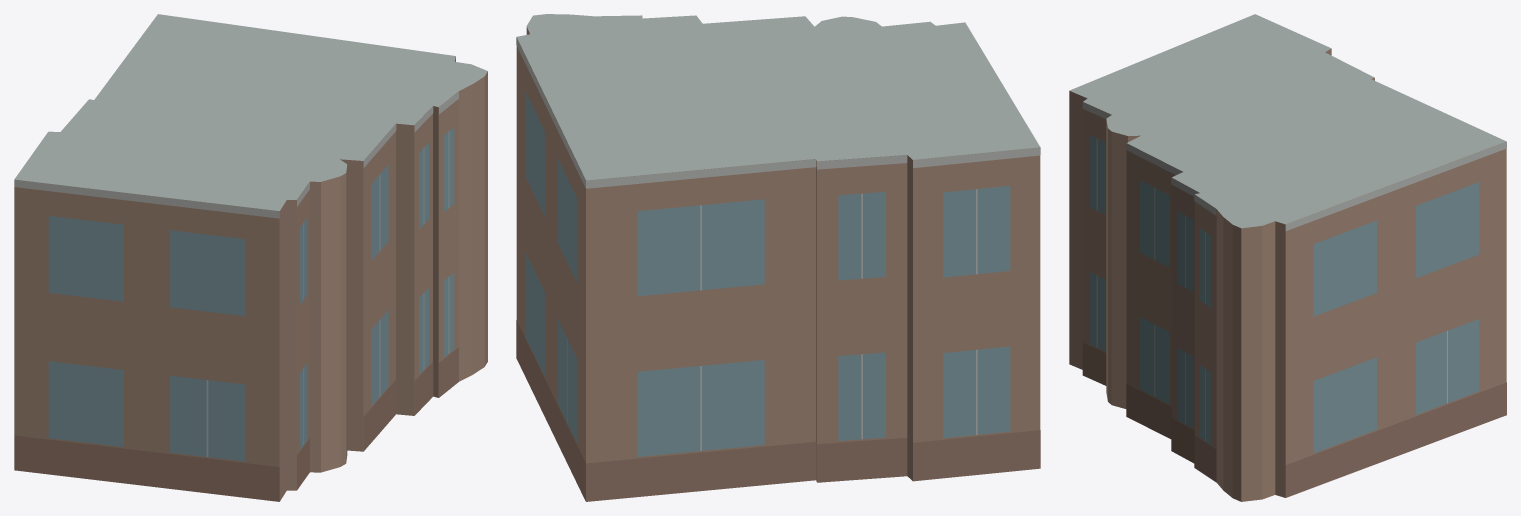
The model's file is survey-upis-32935562.glb.
The picture shows the model from 3 angles, left to right: view 1: azimuth 30°, elevation 25°; view 2: azimuth 150°, elevation 25°; view 3: azimuth 270°, elevation 25°; orthographic projection. The views are drawn at different scales.
Visible parts, largest first — view 1: survey-upis-32935562.tmp; view 2: survey-upis-32935562.tmp; view 3: survey-upis-32935562.tmp.
Part boxes in pixels (x1,y1,x2,y2): survey-upis-32935562.tmp: (14, 14, 487, 501); survey-upis-32935562.tmp: (516, 14, 1040, 501); survey-upis-32935562.tmp: (1069, 14, 1506, 501).
Size of the model in its own units: 15.96 by 9.5 by 13.78.
